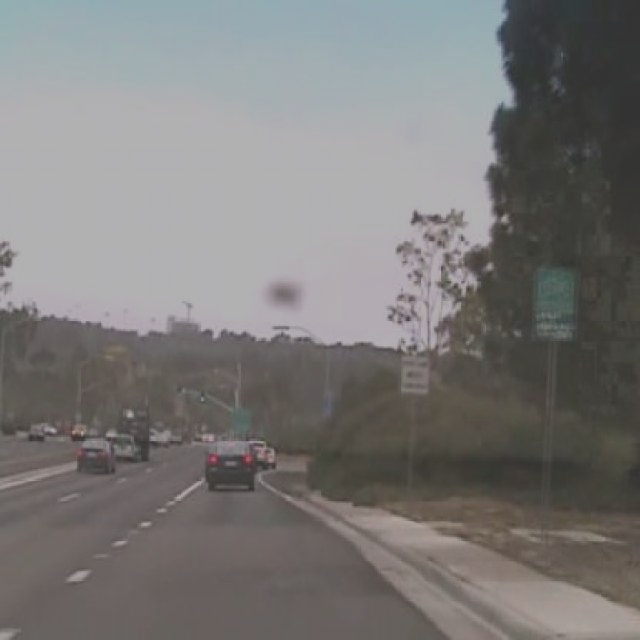rightLaneMustTurn: (400, 354, 431, 396)
